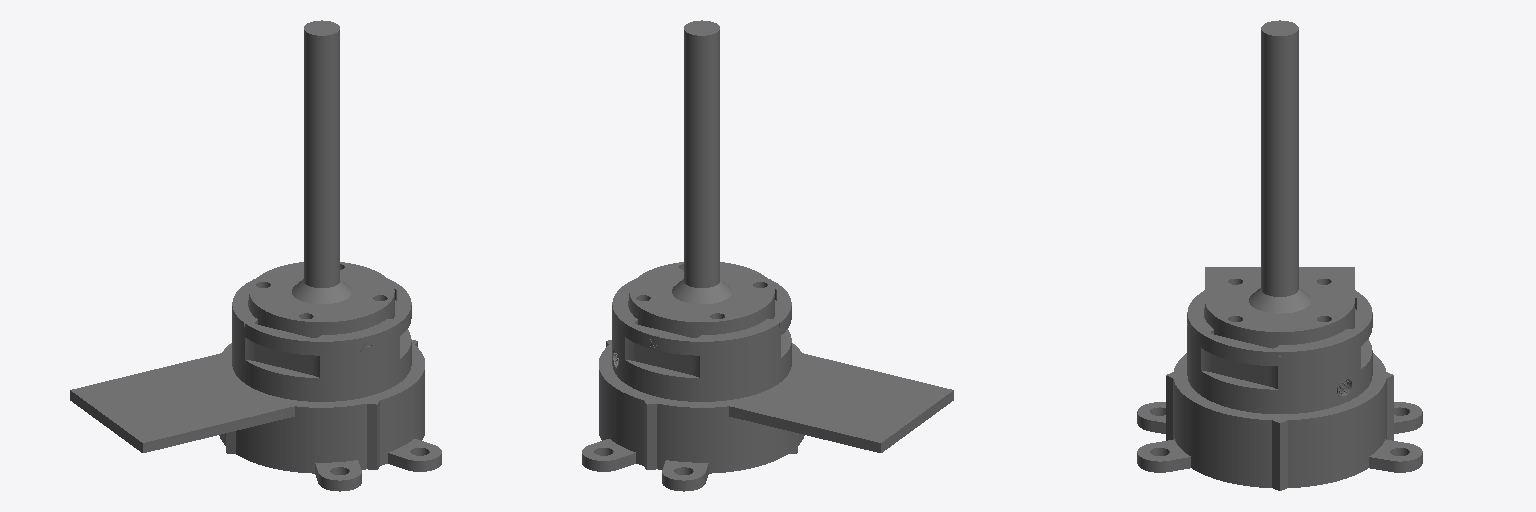
robot.urdf — ftsensor_mount:
<?xml version="1.0" ?>
<!-- =================================================================================== -->
<!-- |    This document was autogenerated by xacro from InstalledProjects/robot_stack/src/bubble_force_estimation/bubble_force_estimation/urdf/ftsensor_fake.urdf.xacro | -->
<!-- |    EDITING THIS FILE BY HAND IS NOT RECOMMENDED                                 | -->
<!-- =================================================================================== -->
<robot name="ftsensor_mount">
  <!-- APRIL TAG FRAME NAME -->
  <link name="tag_4_1">
        </link>
  <joint name="netft_tag_fake_joint" type="fixed">
    <origin rpy="0 0 0" xyz="0.07577 0 0"/>
    <parent link="tag_4_1"/>
    <child link="netft_support"/>
  </joint>
  <!-- FT Sensor Mounting Support -->
  <link name="netft_support">
    <inertial>
      <mass value="0.0"/>
      <!-- This is not the true mass -->
      <origin xyz="0 0 0"/>
      <inertia ixx="1.0" ixy="0.0" ixz="0.0" iyy="1.0" iyz="0.0" izz="1.0"/>
      <!-- This are not the true inertia -->
    </inertial>
    <visual>
      <origin rpy="3.1415 0 -1.96349" xyz="0.0 0 0"/>
      <geometry>
        <mesh filename="package://bubble_force_estimation/meshes/visual/ft_mount_with_tag_support.stl" scale=".001 .001 .001"/>
      </geometry>
      <material name="grey">
        <color rgba="0.5 0.5 0.5 1"/>
      </material>
    </visual>
    <collision>
      <origin rpy="3.1415 0 -1.96349" xyz="0.0 0 0"/>
      <geometry>
        <mesh filename="package://bubble_force_estimation/meshes/collision/ft_mount_with_tag_support.stl" scale=".001 .001 .001"/>
      </geometry>
    </collision>
  </link>
  <joint name="netft_support_joint" type="fixed">
    <!--  Choose one of this two configurations  -->
    <origin rpy="0 0 -1.5707" xyz="0 0 0.028"/>
    <!--            <origin xyz="0 0 -0.028" rpy="0 0 -1.5707"/>-->
    <parent link="netft_support"/>
    <child link="netft_base"/>
  </joint>
  <!-- Make a base link. -->
  <link name="netft_base" type="fixed">
    <inertial>
      <mass value="0"/>
      <inertia ixx="0" ixy="0" ixz="0" iyy="0" iyz="0" izz="0"/>
    </inertial>
  </link>
  <joint name="netft_sensor_joint" type="fixed">
    <origin rpy="0 0 0" xyz="0 0 0"/>
    <parent link="netft_base"/>
    <child link="netft_sensor"/>
  </joint>
  <!-- ATI Gamma FT Sensor -->
  <link name="netft_sensor">
    <inertial>
      <mass value="0.0"/>
      <!-- This is not the true mass -->
      <origin xyz="0 0 0"/>
      <inertia ixx="1.0" ixy="0.0" ixz="0.0" iyy="1.0" iyz="0.0" izz="1.0"/>
      <!-- This are not the true inertia -->
    </inertial>
    <visual>
      <!--            <origin rpy="-1.57079 3.6651 3.1415" xyz="0.0 0 0"/>-->
      <origin rpy="-1.57079 0 -0.52359" xyz="0.0 0 0"/>
      <geometry>
        <mesh filename="package://bubble_force_estimation/meshes/visual/ati_gamma_ft_sensor.stl" scale=".001 .001 .001"/>
      </geometry>
      <material name="grey">
        <color rgba="0.5 0.5 0.5 1"/>
      </material>
    </visual>
    <collision>
      <origin rpy="-1.57079 0 -0.52359" xyz="0.0 0 0"/>
      <geometry>
        <mesh filename="package://bubble_force_estimation/meshes/collision/ati_gamma_ft_sensor.stl" scale=".001 .001 .001"/>
      </geometry>
    </collision>
  </link>
  <joint name="netft_tool_joint" type="fixed">
    <origin rpy="0 0 0" xyz="0 0 0"/>
    <parent link="netft_base"/>
    <child link="netft_tool"/>
  </joint>
  <!-- FT Sensor Attached TOOL -->
  <link name="netft_tool">
    <inertial>
      <mass value="0.0"/>
      <!-- This is not the true mass -->
      <origin rpy="0 0 0" xyz="0 0 0"/>
      <inertia ixx="1.0" ixy="0.0" ixz="0.0" iyy="1.0" iyz="0.0" izz="1.0"/>
      <!-- This are not the true inertia -->
    </inertial>
    <visual>
      <origin rpy="-1.57079 0 -0.52359" xyz="0.0 0 0"/>
      <geometry>
        <mesh filename="package://bubble_force_estimation/meshes/visual/r7p5mm_ati_cylinder.stl" scale=".001 .001 .001"/>
      </geometry>
      <material name="grey">
        <color rgba="0.5 0.5 0.5 1"/>
      </material>
    </visual>
    <collision>
      <origin rpy="-1.57079 0 -0.52359" xyz="0 0 0"/>
      <geometry>
        <mesh filename="package://bubble_force_estimation/meshes/collision/r7p5mm_ati_cylinder.stl" scale=".001 .001 .001"/>
      </geometry>
    </collision>
  </link>
  <!-- APRIL TOOL FRAME NAME -->
  <joint name="netft_tool_frame_fake_joint" type="fixed">
    <origin rpy="0 0 0" xyz="0 0 0.066"/>
    <parent link="netft_base"/>
    <child link="netft_tool_frame"/>
  </joint>
  <link name="netft_tool_frame">
    <inertial>
      <mass value="0.0"/>
      <origin xyz="0 0 0"/>
      <inertia ixx="0.0" ixy="0.0" ixz="0.0" iyy="0.0" iyz="0.0" izz="0.0"/>
    </inertial>
  </link>
  <!-- APRIL TOOL FRAME NAME -->
  <joint name="netft_tool_frame_tip_fake_joint" type="fixed">
    <origin rpy="0 0 0" xyz="0 0 0.126"/>
    <parent link="netft_base"/>
    <child link="netft_tool_tip_frame"/>
  </joint>
  <link name="netft_tool_tip_frame">
    <inertial>
      <mass value="0.0"/>
      <origin xyz="0 0 0"/>
      <inertia ixx="0.0" ixy="0.0" ixz="0.0" iyy="0.0" iyz="0.0" izz="0.0"/>
    </inertial>
  </link>
</robot>

--- What the picture shows (computed from the rendered views, not written in the file) ---
The picture shows the robot from 3 angles, left to right: view 1: azimuth 30°, elevation 25°; view 2: azimuth 150°, elevation 25°; view 3: azimuth 270°, elevation 25°; orthographic projection.
Model ftsensor_mount with 7 links and 6 joints (6 fixed), rooted at tag_4_1, posed all joints at 0.
Links seen in each view (by area): view 1: netft_support, netft_tool, netft_sensor; view 2: netft_support, netft_tool, netft_sensor; view 3: netft_support, netft_tool, netft_sensor.
Boxes of the visible links, x1,y1,x2,y2 form: netft_support: (70,340,441,491); netft_tool: (249,20,394,332); netft_sensor: (232,279,411,401); netft_support: (582,340,953,491); netft_tool: (629,20,774,332); netft_sensor: (612,279,791,401); netft_support: (1137,267,1422,490); netft_tool: (1205,20,1354,342); netft_sensor: (1187,286,1372,413).
Bounding box of the posed robot: 0.1484 × 0.114 × 0.183 m (x, y, z).
3 mesh visuals loaded from 3 distinct referenced files (3 binary STL).